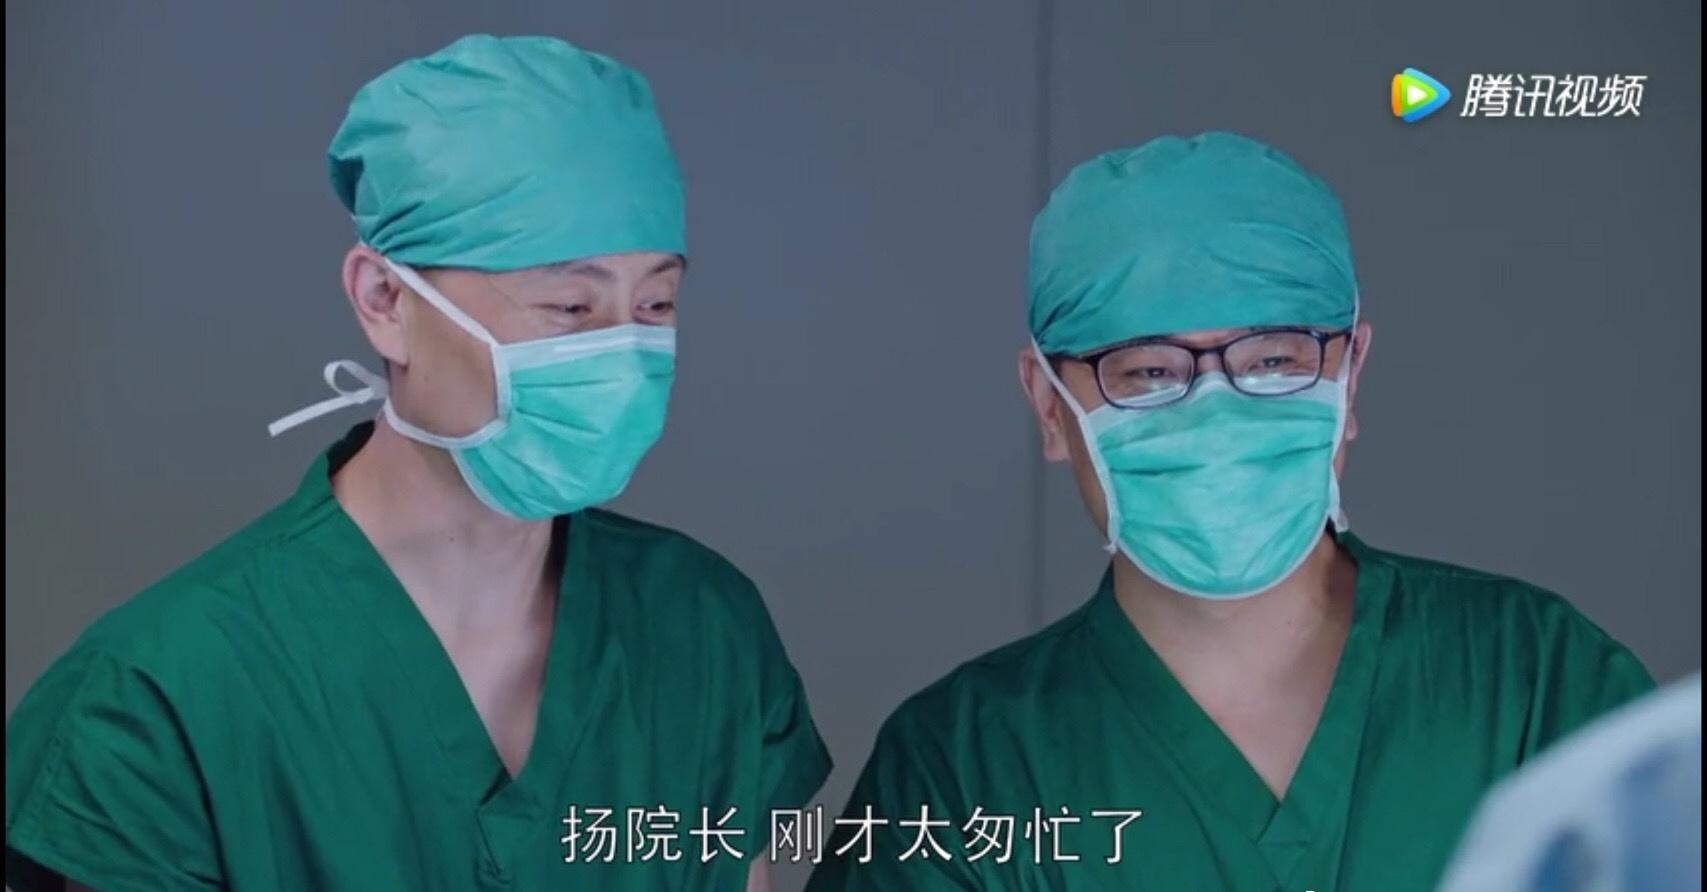Mask: (448, 239, 723, 513)
